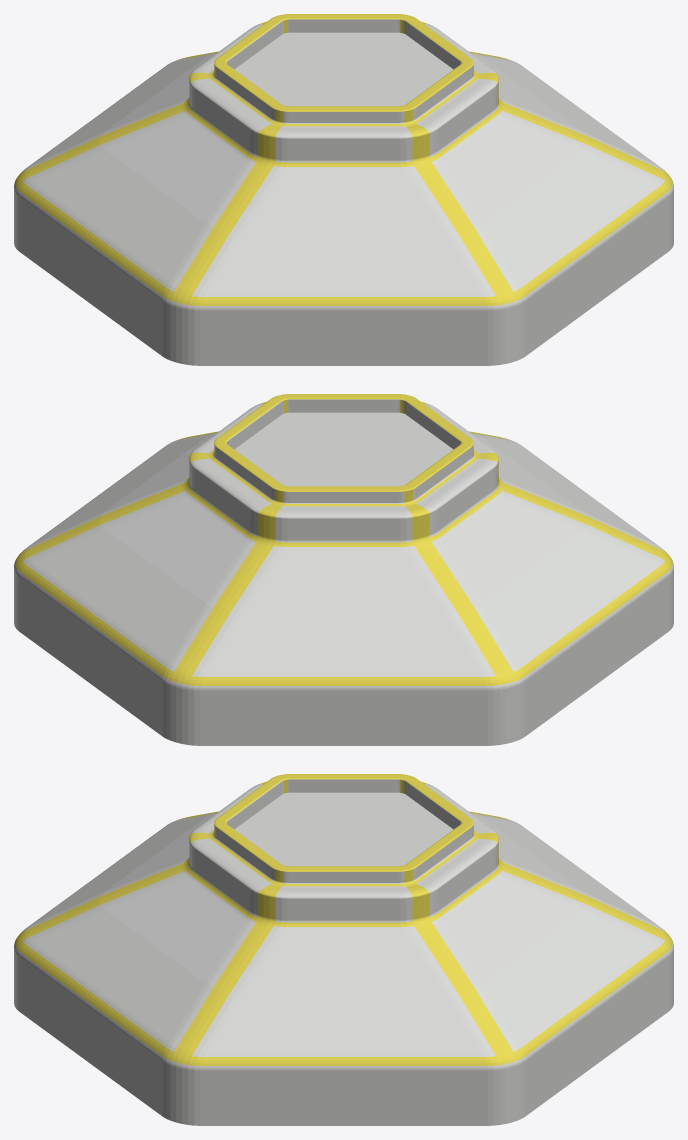
File: Captain Pedestal.fbx
The picture shows the model from 3 angles, top to bottom: view 1: azimuth 30°, elevation 25°; view 2: azimuth 150°, elevation 25°; view 3: azimuth 270°, elevation 25°; orthographic projection.
Parts seen in each view (by area): view 1: Cylinder; view 2: Cylinder; view 3: Cylinder.
Boxes of the visible parts, x1=… form: Cylinder: x1=14, y1=14, x2=673, y2=365; Cylinder: x1=14, y1=394, x2=673, y2=745; Cylinder: x1=14, y1=774, x2=673, y2=1125.
Bounding box in the file's own units: 232 × 78.99 × 262.
